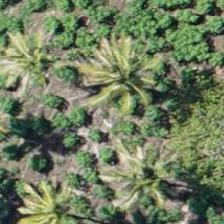coconut_tree: (83, 37, 173, 127), (107, 134, 197, 223), (0, 9, 79, 99), (0, 173, 90, 223)
